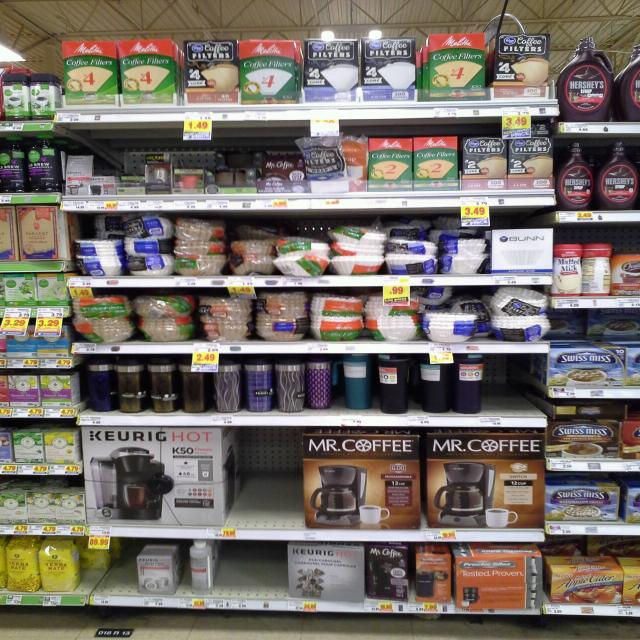void: (229, 428, 290, 540), (511, 356, 543, 430), (250, 542, 282, 610), (220, 541, 252, 609), (105, 537, 136, 605), (490, 352, 511, 427), (81, 538, 102, 608)
